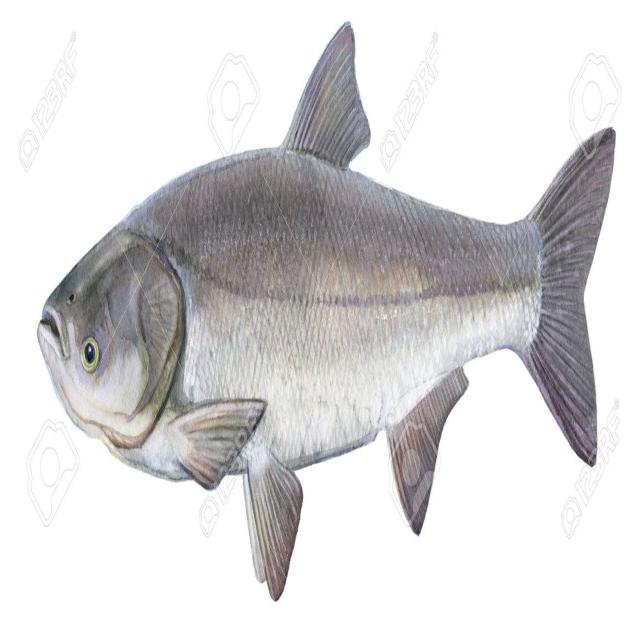Big-Head-Carp: (8, 8, 632, 623)
